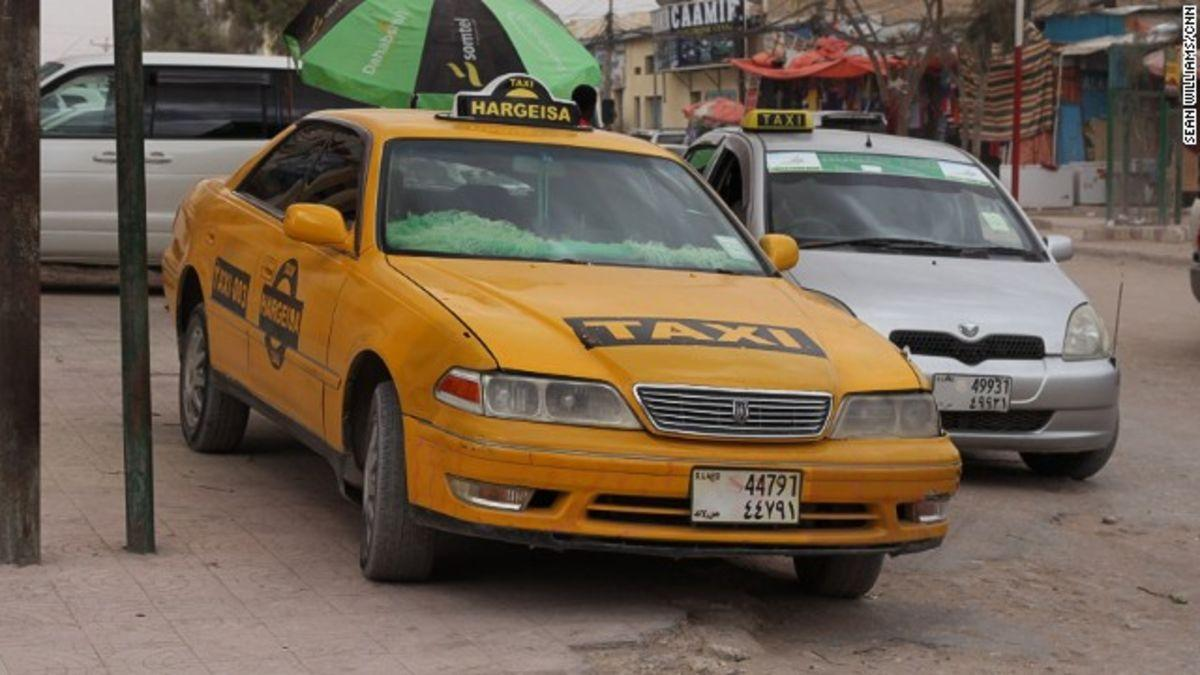taxi: (170, 91, 725, 501)
